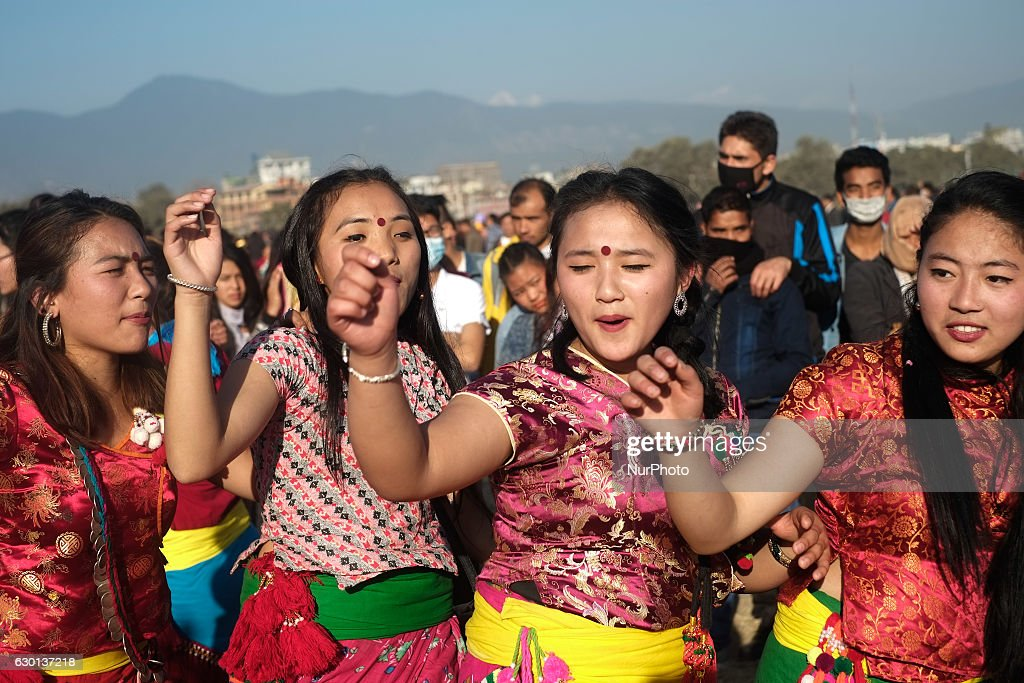human: (310, 163, 841, 683), (609, 165, 1024, 683), (152, 149, 508, 683), (1, 182, 182, 683), (670, 99, 837, 347), (690, 184, 808, 409), (803, 141, 906, 324)
